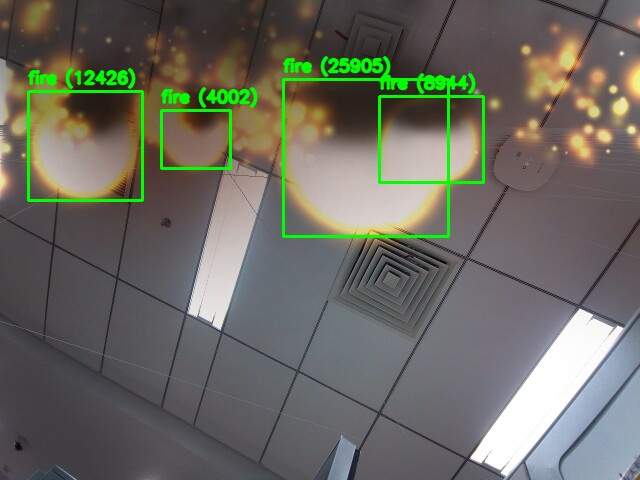fire: (283, 79, 448, 236), (28, 91, 142, 200), (379, 96, 483, 182), (161, 110, 230, 168)
